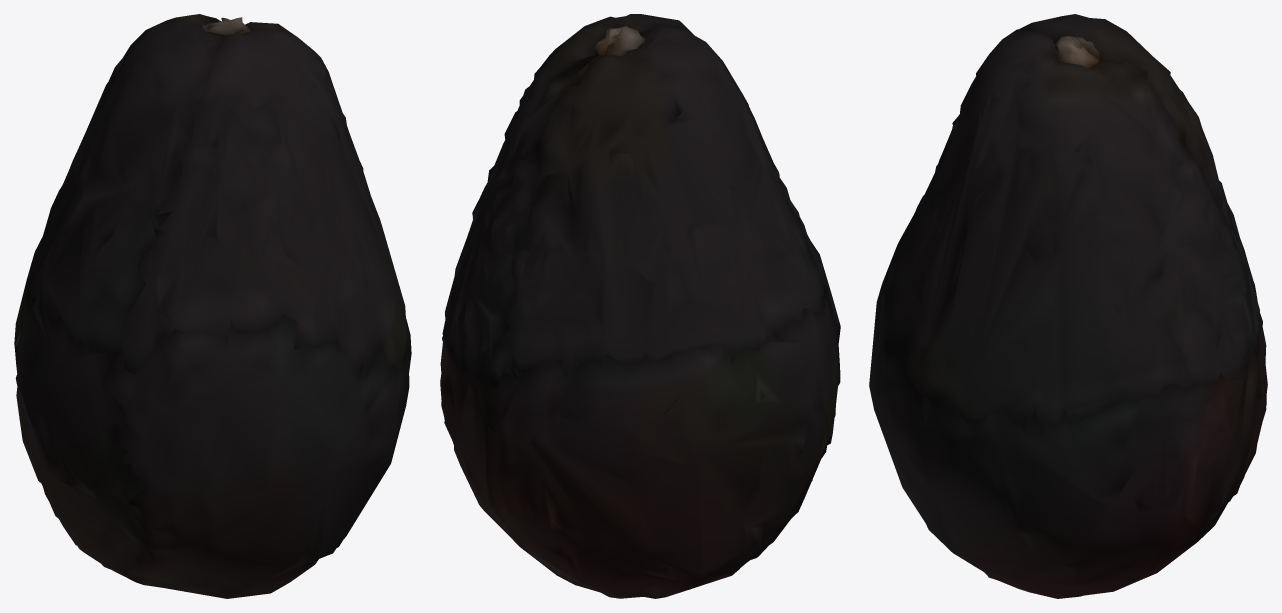
3 renders of one model, left to right at view 1: azimuth 30°, elevation 25°; view 2: azimuth 150°, elevation 25°; view 3: azimuth 270°, elevation 25°, orthographic. The views are drawn at different scales.
Parts seen in each view (by area): view 1: food_avocado_01; view 2: food_avocado_01; view 3: food_avocado_01.
Boxes of the visible parts, left/top/right/bottom form: food_avocado_01: left=14, top=14, right=411, bottom=598; food_avocado_01: left=440, top=14, right=840, bottom=598; food_avocado_01: left=869, top=14, right=1267, bottom=598.
Bounding box in the file's own units: 0.0951 × 0.1432 × 0.0946.
1 material, 1 textured.
